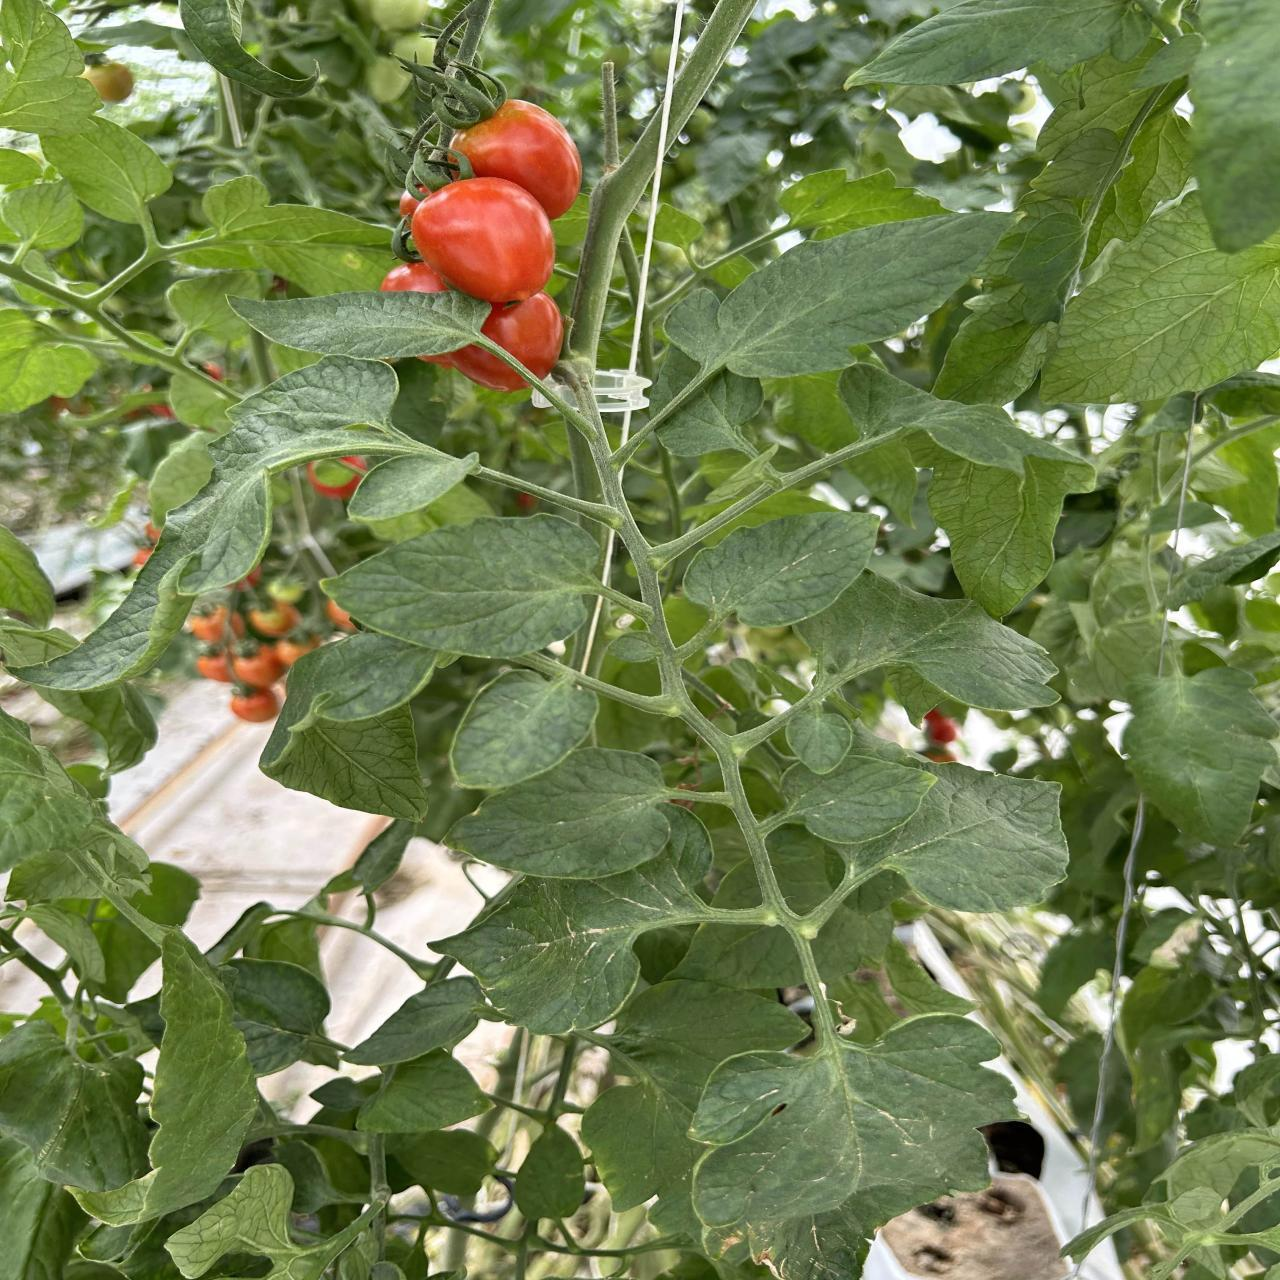Hoja: (18, 356, 451, 690), (690, 1017, 1021, 1280), (839, 365, 1095, 619), (433, 805, 712, 1035), (66, 928, 260, 1226), (667, 213, 1009, 377), (1040, 197, 1280, 403), (325, 516, 600, 658), (259, 632, 457, 821), (794, 572, 1057, 709), (840, 764, 1068, 912), (450, 748, 675, 879), (847, 0, 1150, 87), (683, 512, 878, 626), (781, 717, 934, 844), (230, 290, 490, 360), (450, 669, 598, 790), (41, 117, 172, 226), (345, 976, 484, 1065), (356, 1050, 490, 1133), (348, 452, 478, 522), (513, 1124, 585, 1220), (785, 710, 853, 774)
Pedunculo: (545, 443, 883, 1098), (560, 120, 660, 417), (789, 666, 852, 720), (566, 418, 604, 501)
Tomate: (411, 177, 554, 304), (451, 101, 581, 219), (482, 292, 563, 379), (422, 345, 527, 392), (233, 646, 292, 688), (230, 689, 278, 722), (382, 265, 437, 292), (248, 606, 298, 635), (189, 607, 229, 642), (274, 640, 316, 669), (196, 651, 231, 682)
